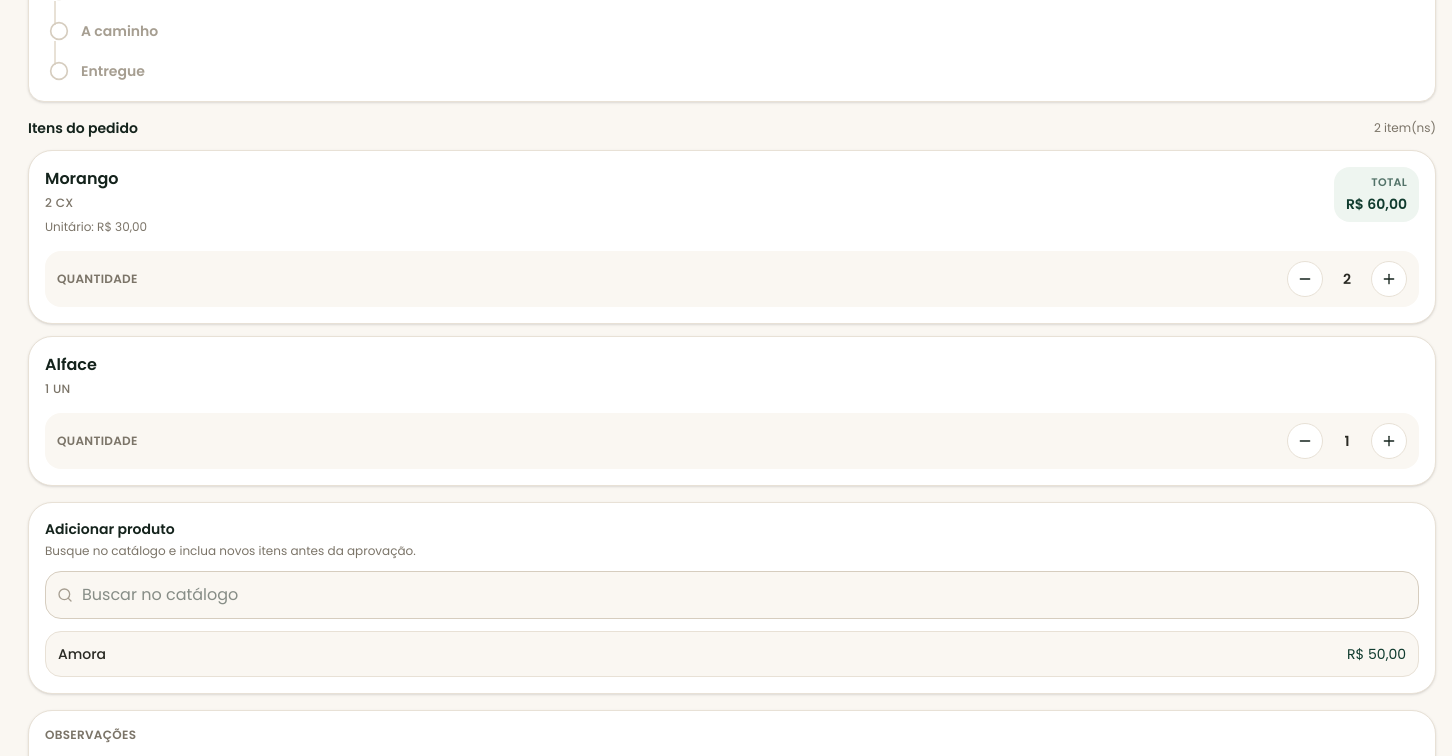
Test: detalhe do pedido › ajusta itens antes da aprovação
This screenshot has width=1452, height=756.
Earlier steps of the test are not shown.
Later steps or results of the test are not shown.
(page scrolled)
Click the text "Amora" at (82, 654), box x1=58 y1=644 x2=106 y2=664
(page scrolled)
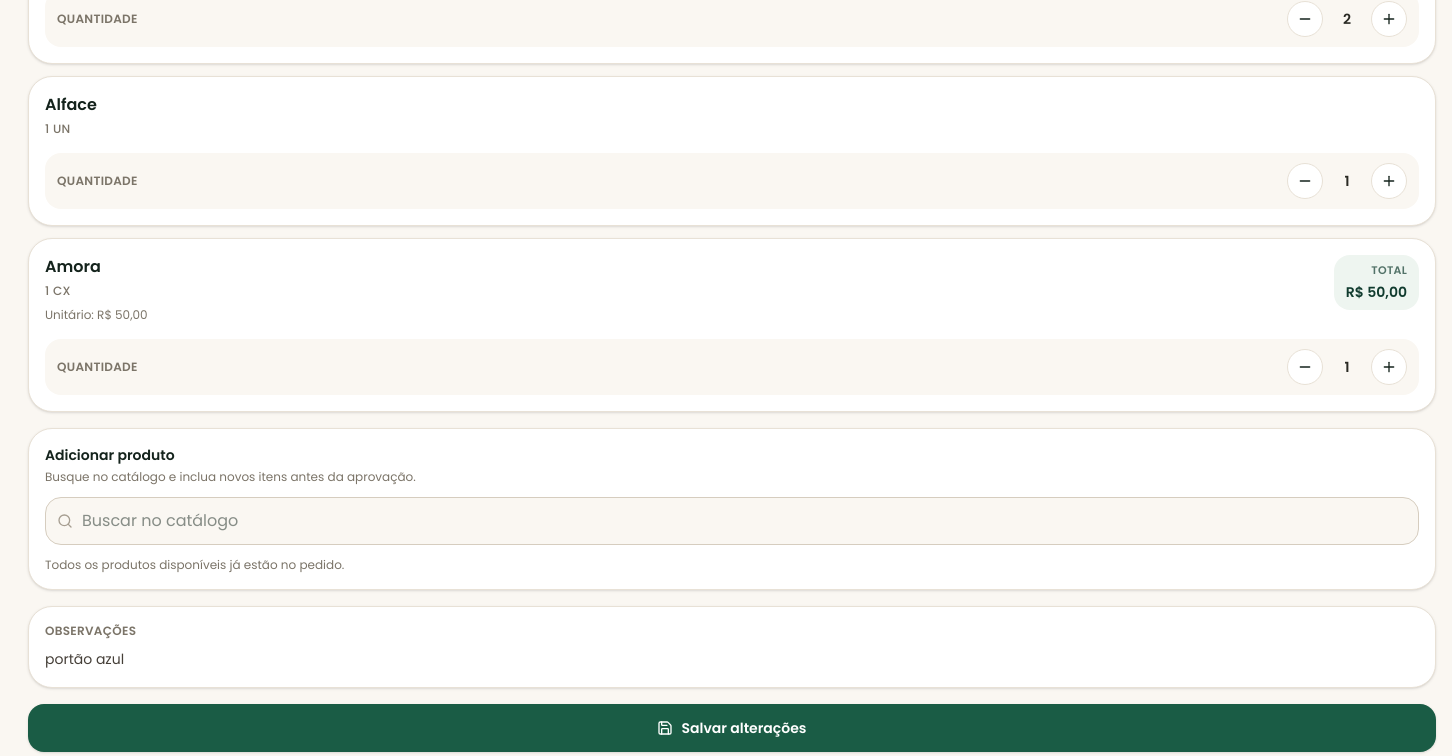
Check: the text "Todos os produtos disponíveis já estão no pedido." is shown, box x1=45 y1=556 x2=344 y2=572
Click the button "Salvar alterações" at (732, 728), box x1=28 y1=704 x2=1436 y2=752
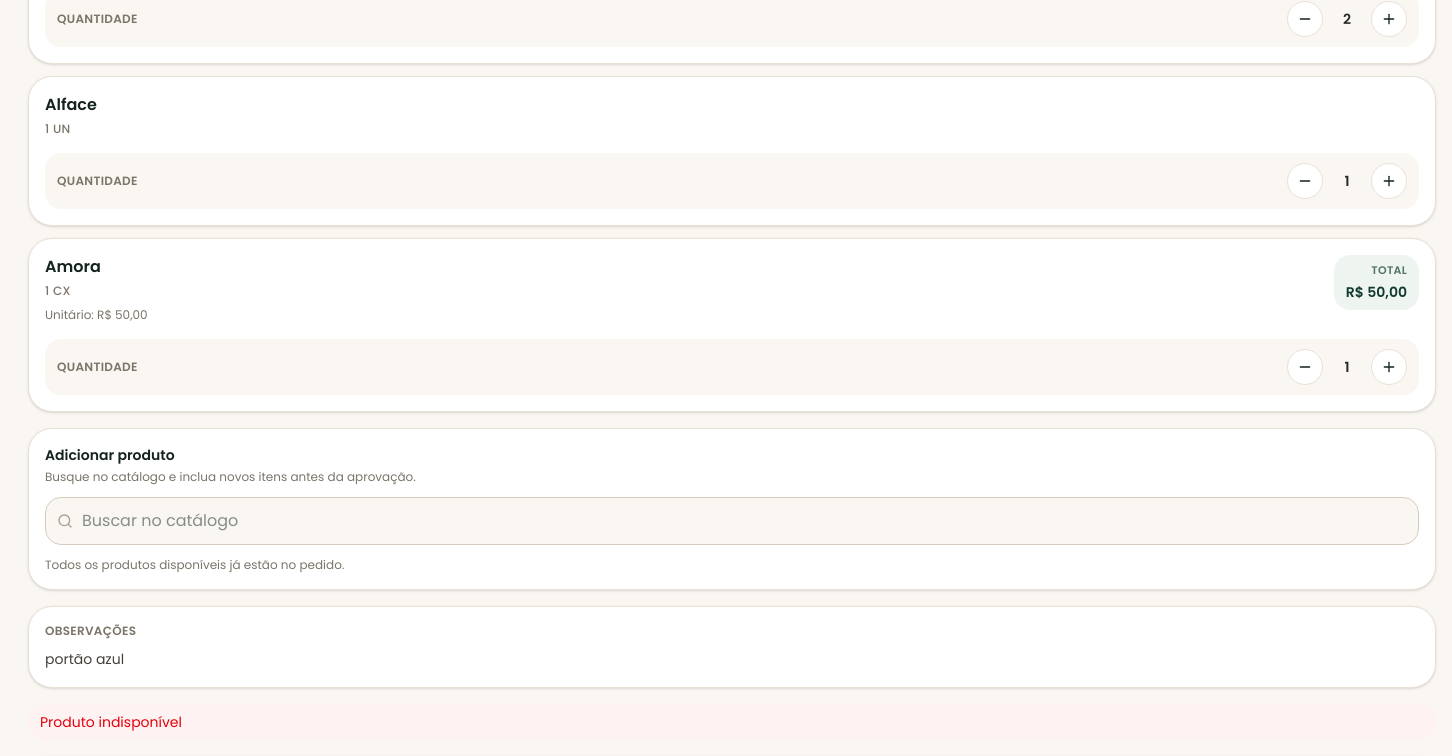
Check: the text "Produto indisponível" is shown, box x1=28 y1=704 x2=1436 y2=740
Click the 3rd button named "Diminuir quantidade" at (1305, 366), box x1=1287 y1=348 x2=1323 y2=384
(page scrolled)
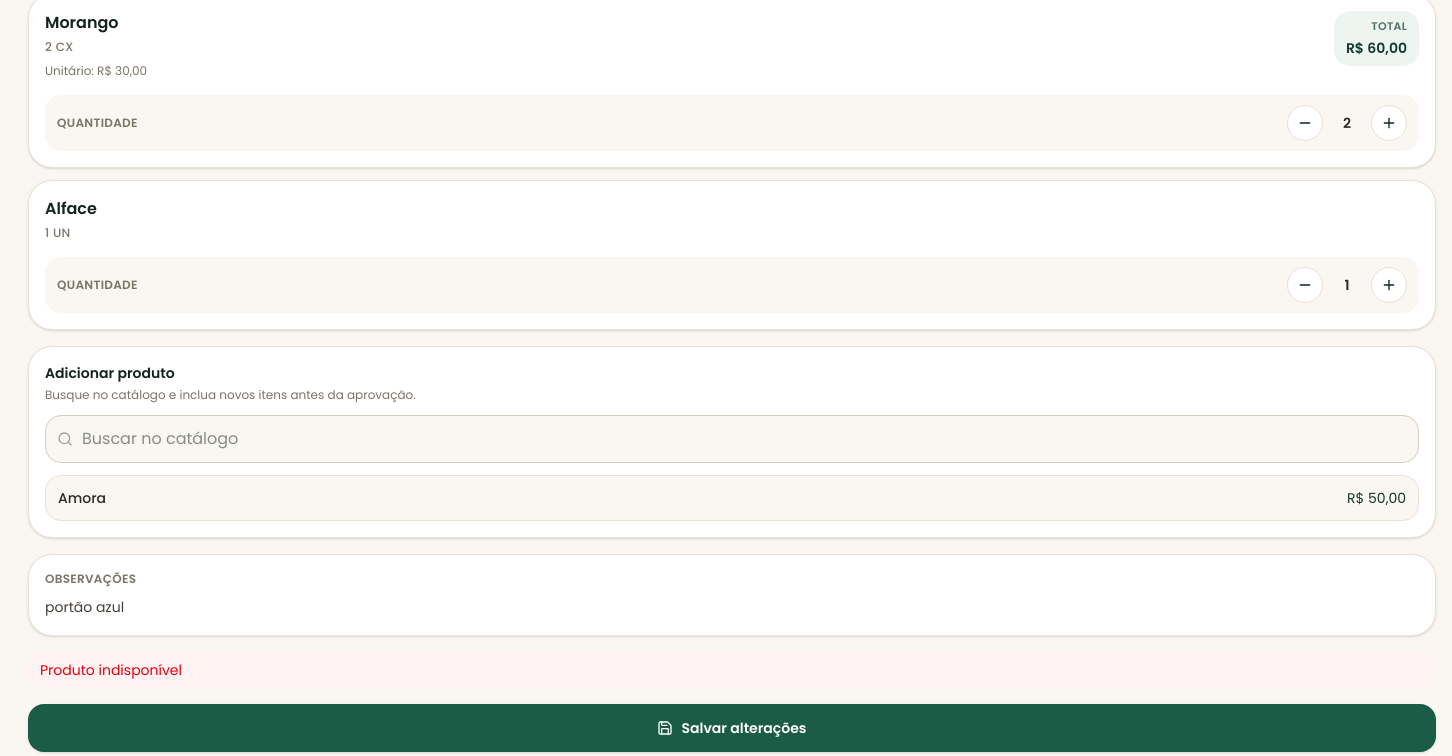
Click the 2nd button named "Diminuir quantidade" at (1305, 284), box x1=1287 y1=266 x2=1323 y2=302
(page scrolled)
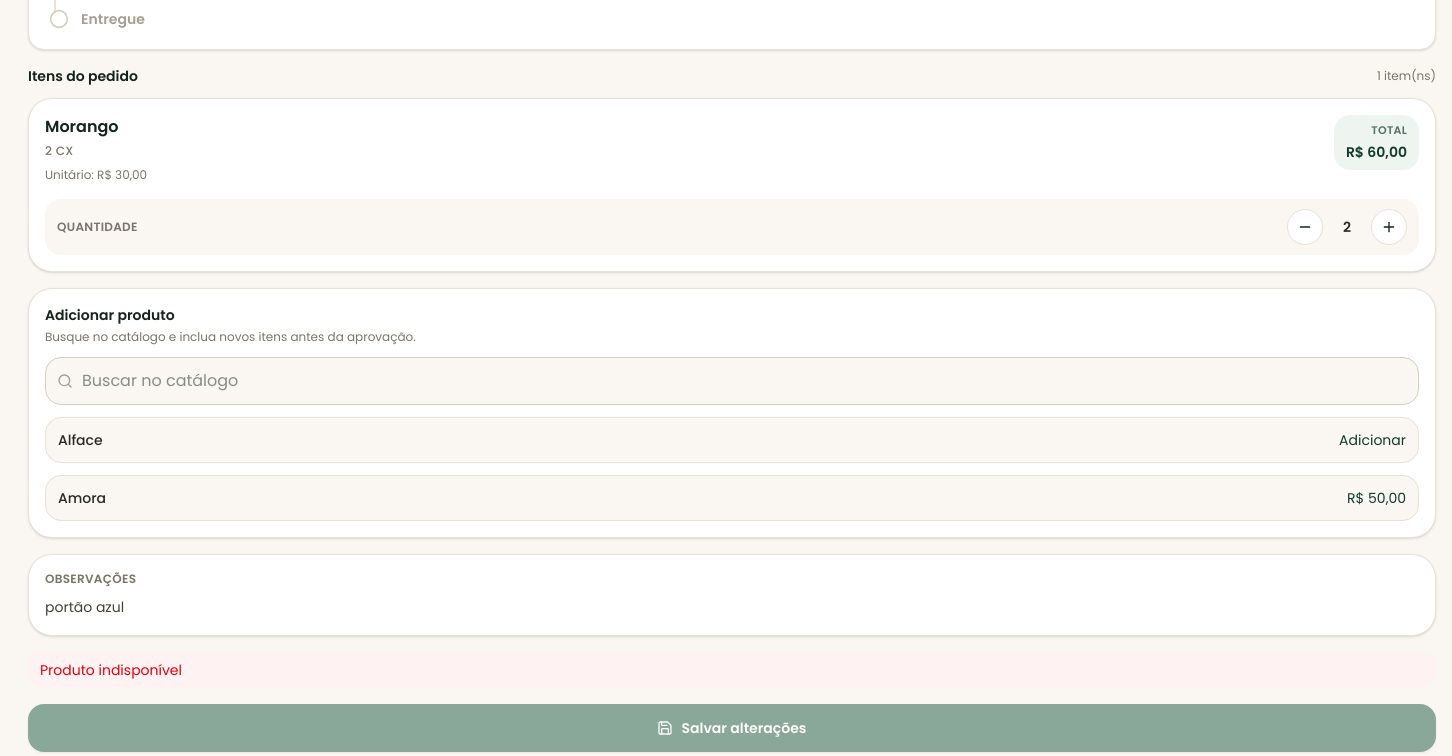
Click the button named "Diminuir quantidade" at (1305, 226), box x1=1287 y1=208 x2=1323 y2=244
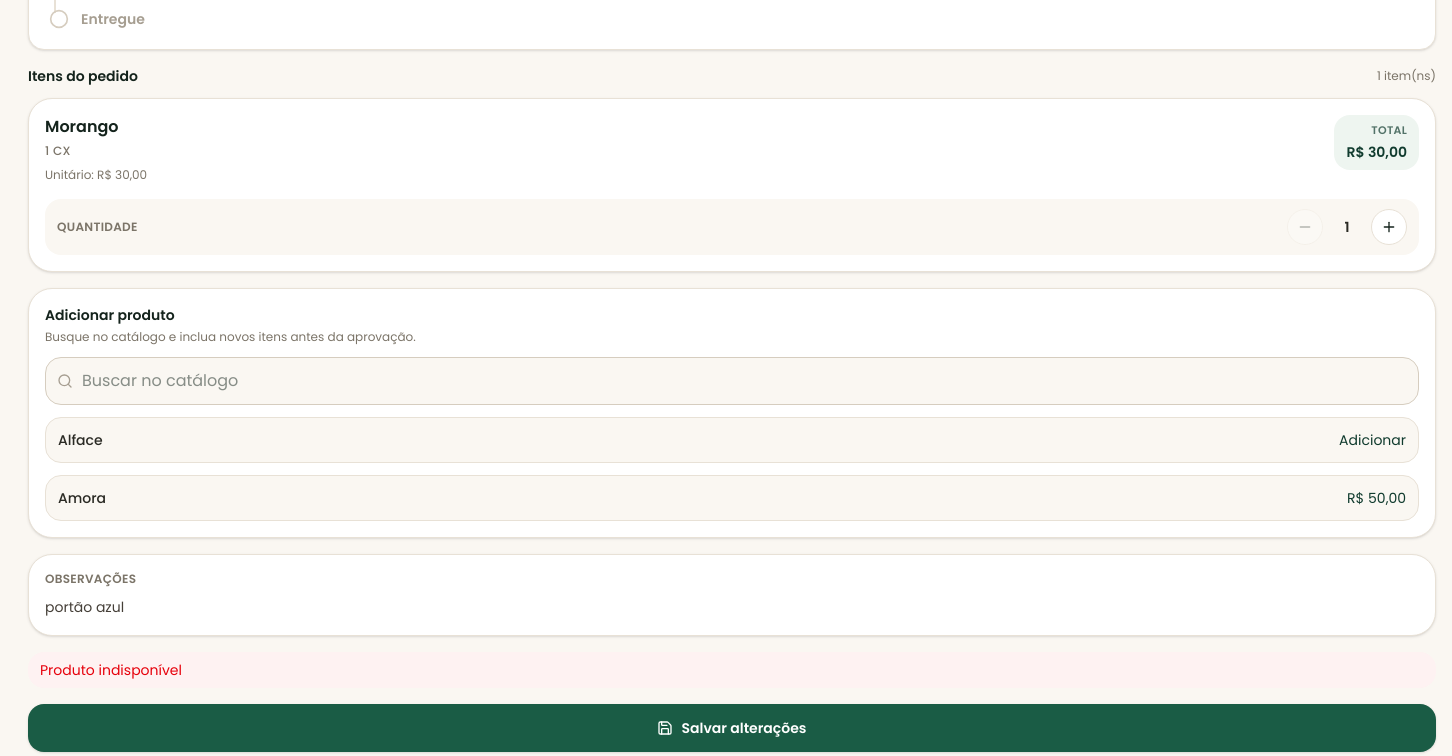
Click the button "Salvar alterações" at (732, 728), box x1=28 y1=704 x2=1436 y2=752
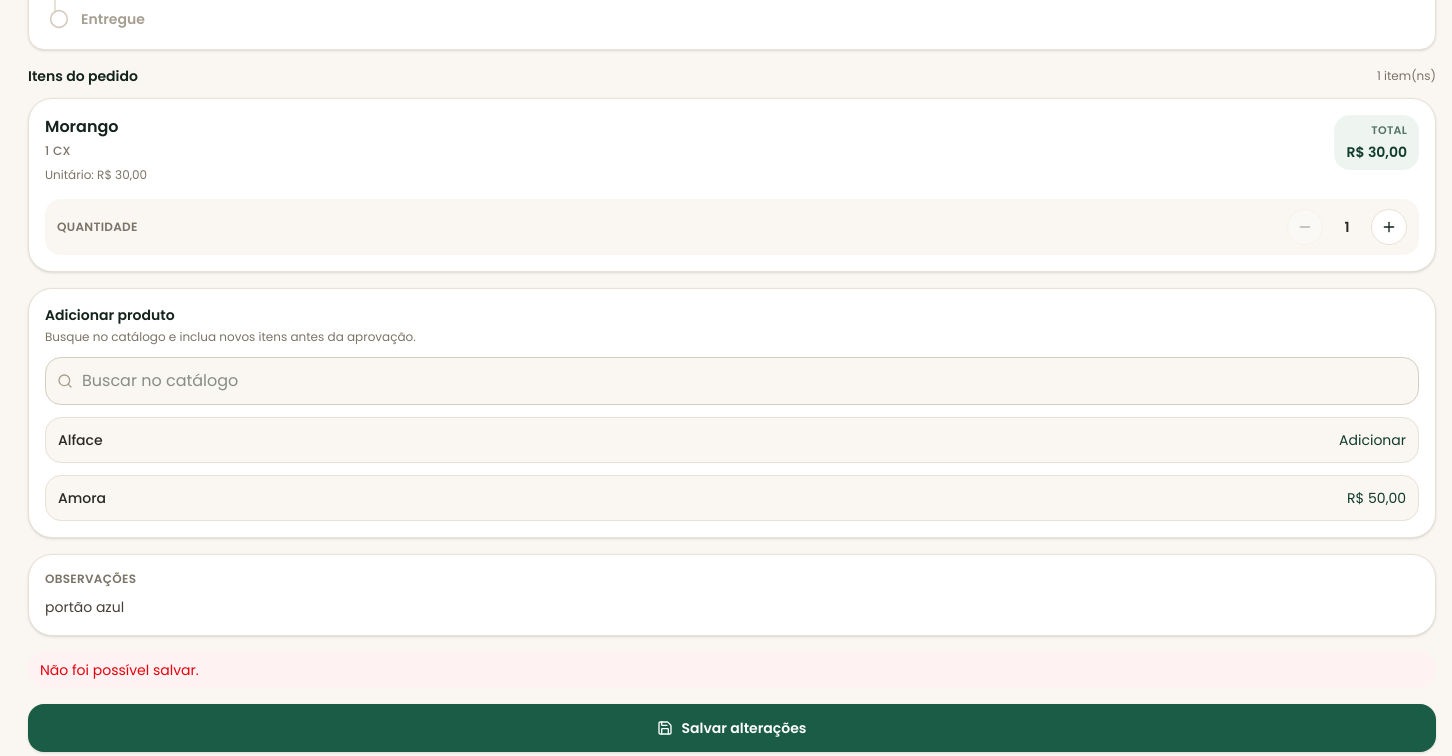
Check: the text "Não foi possível salvar." is shown, box x1=28 y1=652 x2=1436 y2=688
